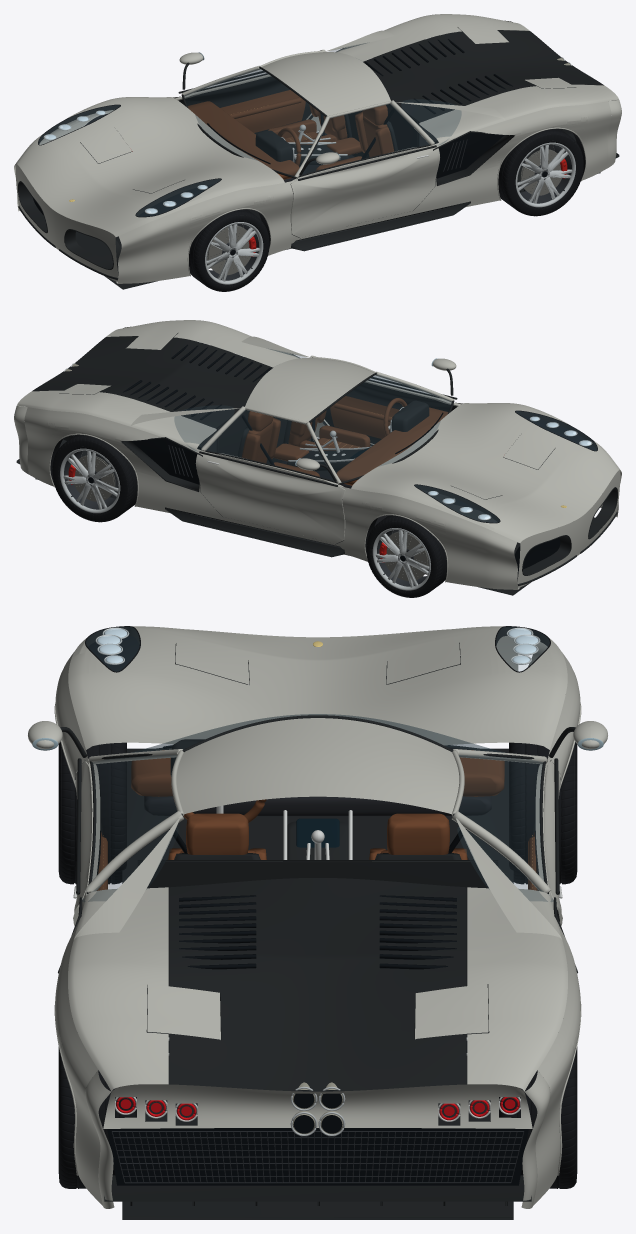
3 renders of one model, top to bottom at view 1: azimuth 30°, elevation 25°; view 2: azimuth 150°, elevation 25°; view 3: azimuth 270°, elevation 25°, orthographic. The views are drawn at different scales.
Visible parts, largest first — view 1: huayra_front_quarter_skin, huayra_side_sculpted_skin_-1, huayra_rear_centre_deck_skin, huayra_compound_wraparound_windshield, huayra_door_outer_skin_-1, huayra_rounded_side_door_glass_-1, huayra_rear_haunch_skin_-1, huayra_rear_haunch_skin_1, huayra_curved_canopy_roof_0, huayra_rear_right_tire, huayra_front_right_tire, huayra_sculpted_front_fascia (+38 smaller); view 2: huayra_front_quarter_skin, huayra_side_sculpted_skin_1, huayra_rear_centre_deck_skin, huayra_compound_wraparound_windshield, huayra_door_outer_skin_1, huayra_rounded_side_door_glass_1, huayra_rear_haunch_skin_1, huayra_rear_haunch_skin_-1, huayra_curved_canopy_roof_2, huayra_rear_left_tire, huayra_front_left_tire, huayra_sculpted_front_fascia (+37 smaller); view 3: huayra_rear_centre_deck_skin, huayra_front_quarter_skin, huayra_rear_grille_shadow, huayra_underfloor_carbon_pan, huayra_rear_haunch_skin_-1, huayra_rear_haunch_skin_1, huayra_rear_bumper_skin, huayra_rear_engine_vent_mesh, huayra_curved_canopy_roof_0, huayra_curved_canopy_roof_2, huayra_rear_firewall, huayra_rear_diffuser_ramp (+35 smaller).
Boxes of the visible parts, x1=… form: huayra_front_quarter_skin: x1=16, y1=97, x2=284, y2=236; huayra_side_sculpted_skin_-1: x1=117, y1=101, x2=611, y2=283; huayra_rear_centre_deck_skin: x1=363, y1=30, x2=603, y2=122; huayra_compound_wraparound_windshield: x1=184, y1=68, x2=325, y2=175; huayra_door_outer_skin_-1: x1=291, y1=147, x2=439, y2=237; huayra_rounded_side_door_glass_-1: x1=302, y1=104, x2=429, y2=174; huayra_rear_haunch_skin_-1: x1=419, y1=84, x2=618, y2=142; huayra_rear_haunch_skin_1: x1=336, y1=14, x2=529, y2=61; huayra_curved_canopy_roof_0: x1=291, y1=68, x2=390, y2=115; huayra_rear_right_tire: x1=498, y1=128, x2=583, y2=216; huayra_front_right_tire: x1=189, y1=209, x2=269, y2=291; huayra_sculpted_front_fascia: x1=15, y1=163, x2=118, y2=281; huayra_front_quarter_skin: x1=351, y1=403, x2=619, y2=542; huayra_side_sculpted_skin_1: x1=24, y1=407, x2=518, y2=589; huayra_rear_centre_deck_skin: x1=32, y1=336, x2=272, y2=428; huayra_compound_wraparound_windshield: x1=310, y1=374, x2=451, y2=481; huayra_door_outer_skin_1: x1=196, y1=453, x2=344, y2=543; huayra_rounded_side_door_glass_1: x1=206, y1=410, x2=333, y2=480; huayra_rear_haunch_skin_1: x1=17, y1=390, x2=216, y2=448; huayra_rear_haunch_skin_-1: x1=106, y1=320, x2=299, y2=367; huayra_curved_canopy_roof_2: x1=245, y1=374, x2=344, y2=421; huayra_rear_left_tire: x1=52, y1=434, x2=137, y2=522; huayra_front_left_tire: x1=366, y1=515, x2=446, y2=597; huayra_sculpted_front_fascia: x1=517, y1=469, x2=620, y2=587; huayra_rear_centre_deck_skin: x1=169, y1=878, x2=466, y2=1091; huayra_front_quarter_skin: x1=68, y1=626, x2=567, y2=749; huayra_rear_grille_shadow: x1=107, y1=1128, x2=528, y2=1185; huayra_underfloor_carbon_pan: x1=122, y1=748, x2=513, y2=1219; huayra_rear_haunch_skin_-1: x1=68, y1=887, x2=168, y2=1091; huayra_rear_haunch_skin_1: x1=467, y1=887, x2=567, y2=1091; huayra_rear_bumper_skin: x1=103, y1=1084, x2=532, y2=1128; huayra_rear_engine_vent_mesh: x1=111, y1=1131, x2=524, y2=1183; huayra_curved_canopy_roof_0: x1=176, y1=719, x2=291, y2=814; huayra_curved_canopy_roof_2: x1=344, y1=719, x2=459, y2=814; huayra_rear_firewall: x1=137, y1=860, x2=498, y2=988; huayra_rear_diffuser_ramp: x1=104, y1=1175, x2=531, y2=1201.
Size of the model in its own units: 4.61 by 1.17 by 2.25.
